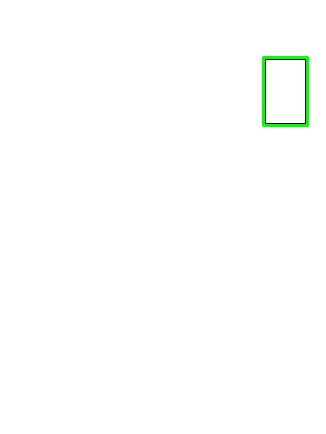line_segment: (262, 56, 309, 127)
